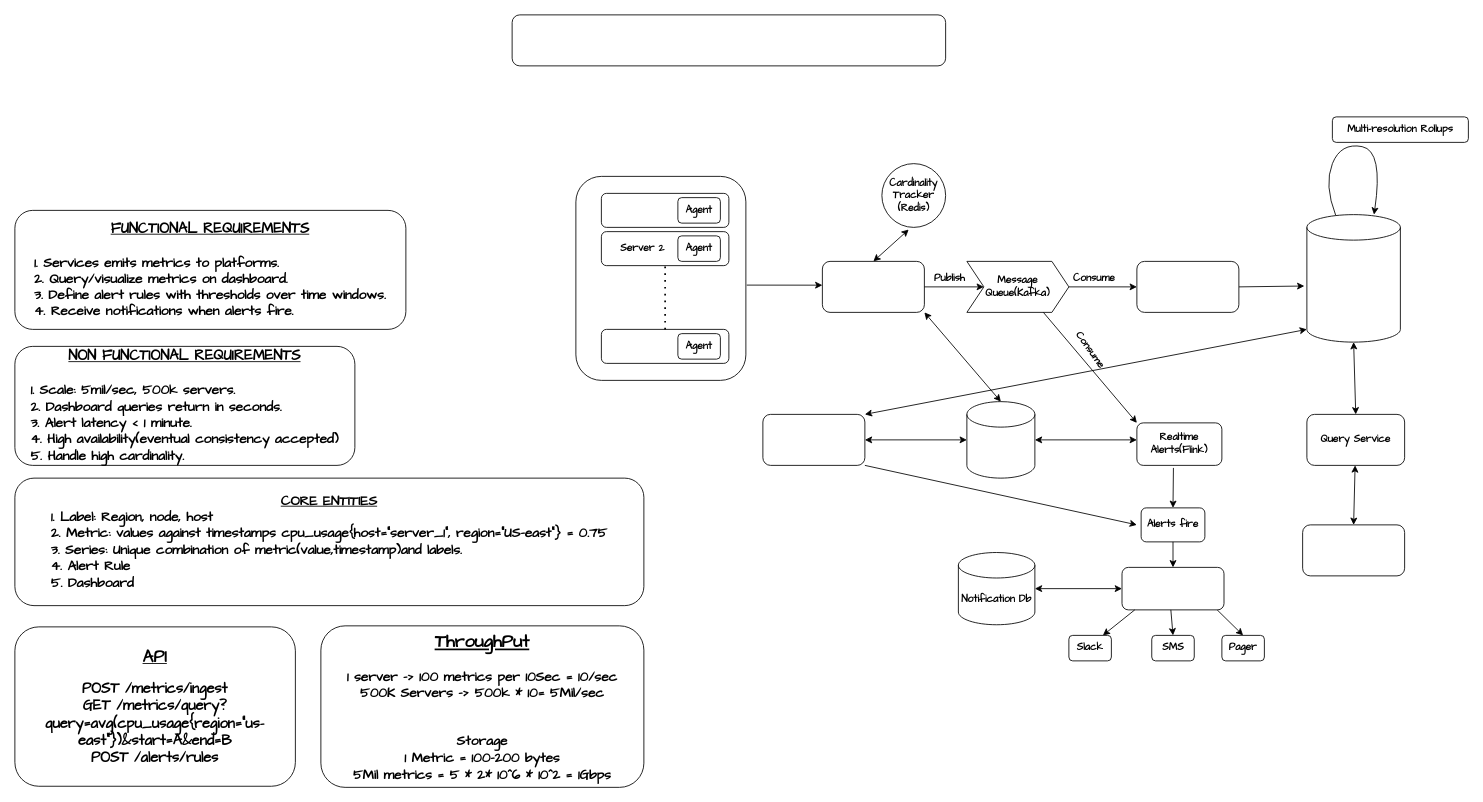
Some shapes in this 1483 by 802 pixel diagram are drawn without their labels. Each missing label, with the box of its shape:
Alert Service: (762, 414, 865, 465)
Dashboard: (1302, 524, 1405, 576)
Data ingestion Service: (822, 261, 924, 312)
Ingestion consumer: (1136, 261, 1239, 312)
METRICS MONITORING SYSTEM: (511, 14, 946, 66)
Notification System: (1121, 567, 1224, 610)
Policy DB (Postgres): (966, 401, 1035, 478)
Server 1: (601, 193, 729, 227)
Server 500k: (601, 329, 729, 363)
TimescaleDb - Partition by time and metric(metric name + labels): (1306, 214, 1400, 342)
